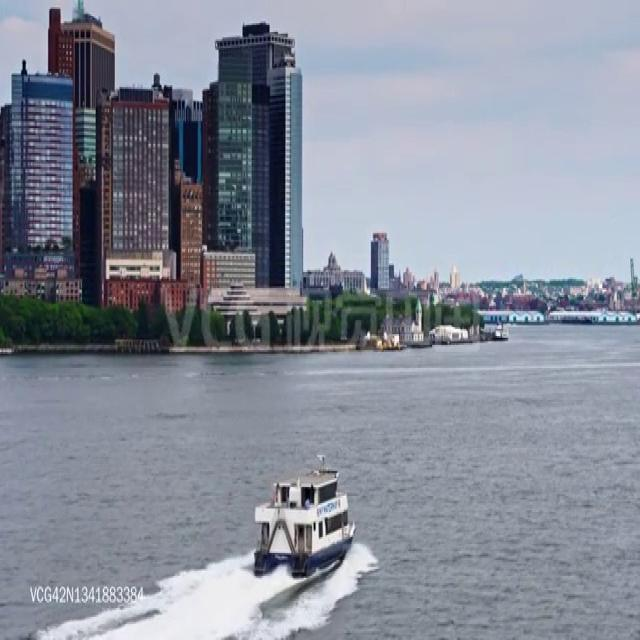houseboat: (247, 459, 355, 581)
